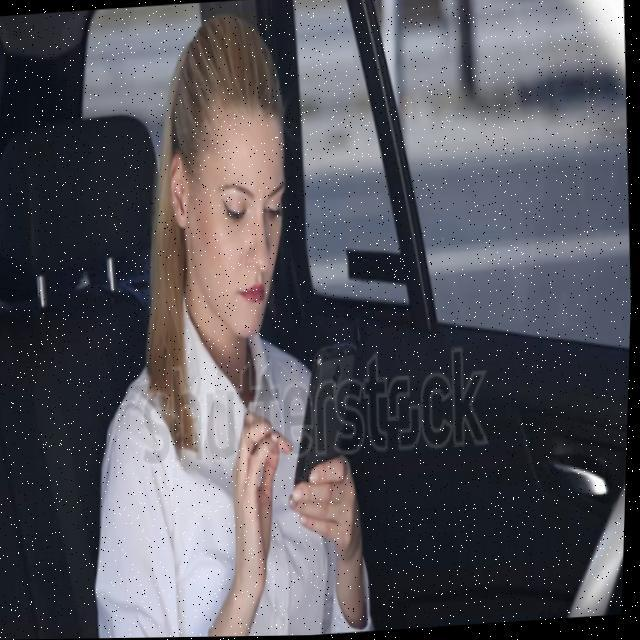PhoneCall: (289, 344, 365, 504)
